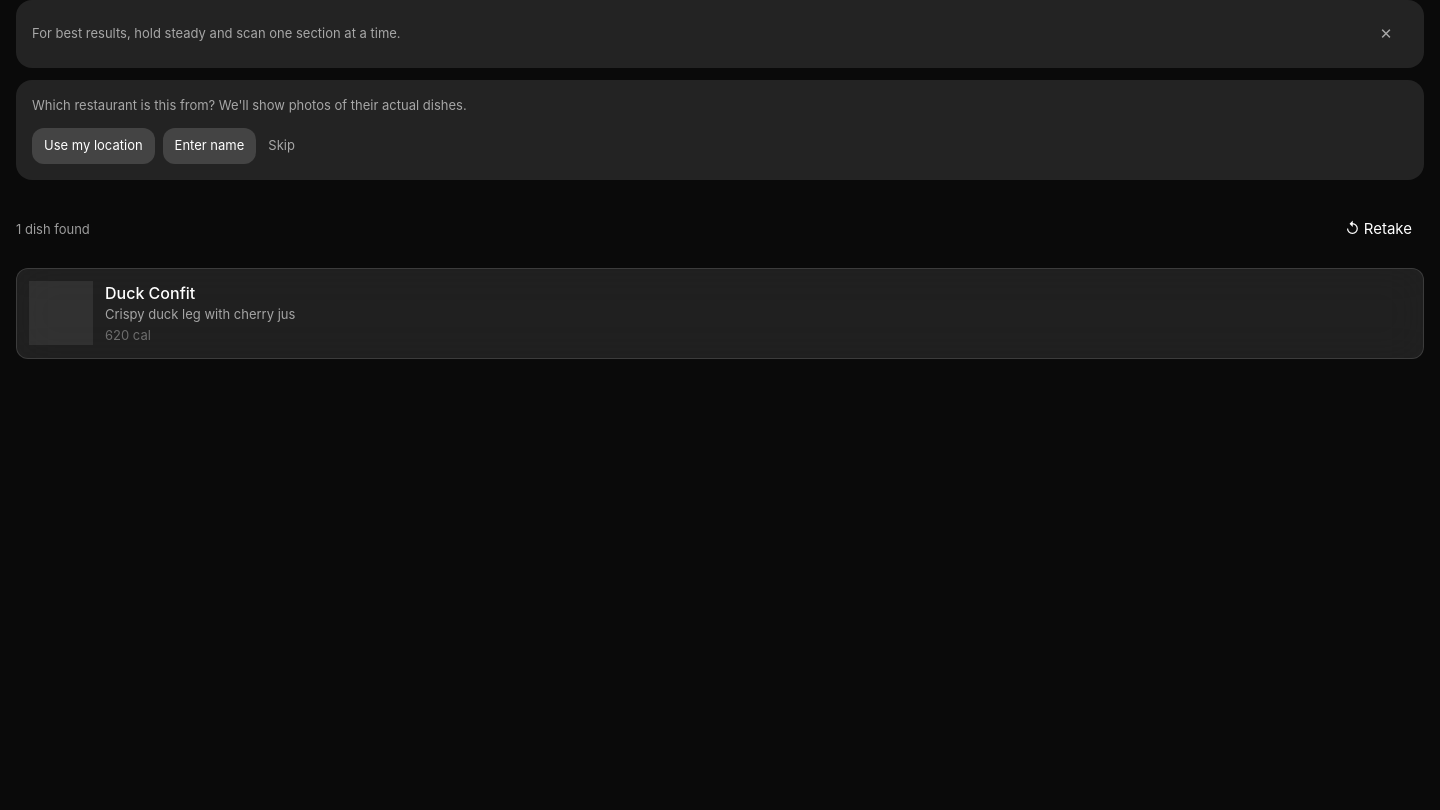
it: ScanResults › tapping a dish card opens the DishDetailSheet
What coordinates should you click on to do the following:
click the element with test id "glass-card"
I would click on:
 (720, 313)
Its box is [16, 268, 1424, 358].
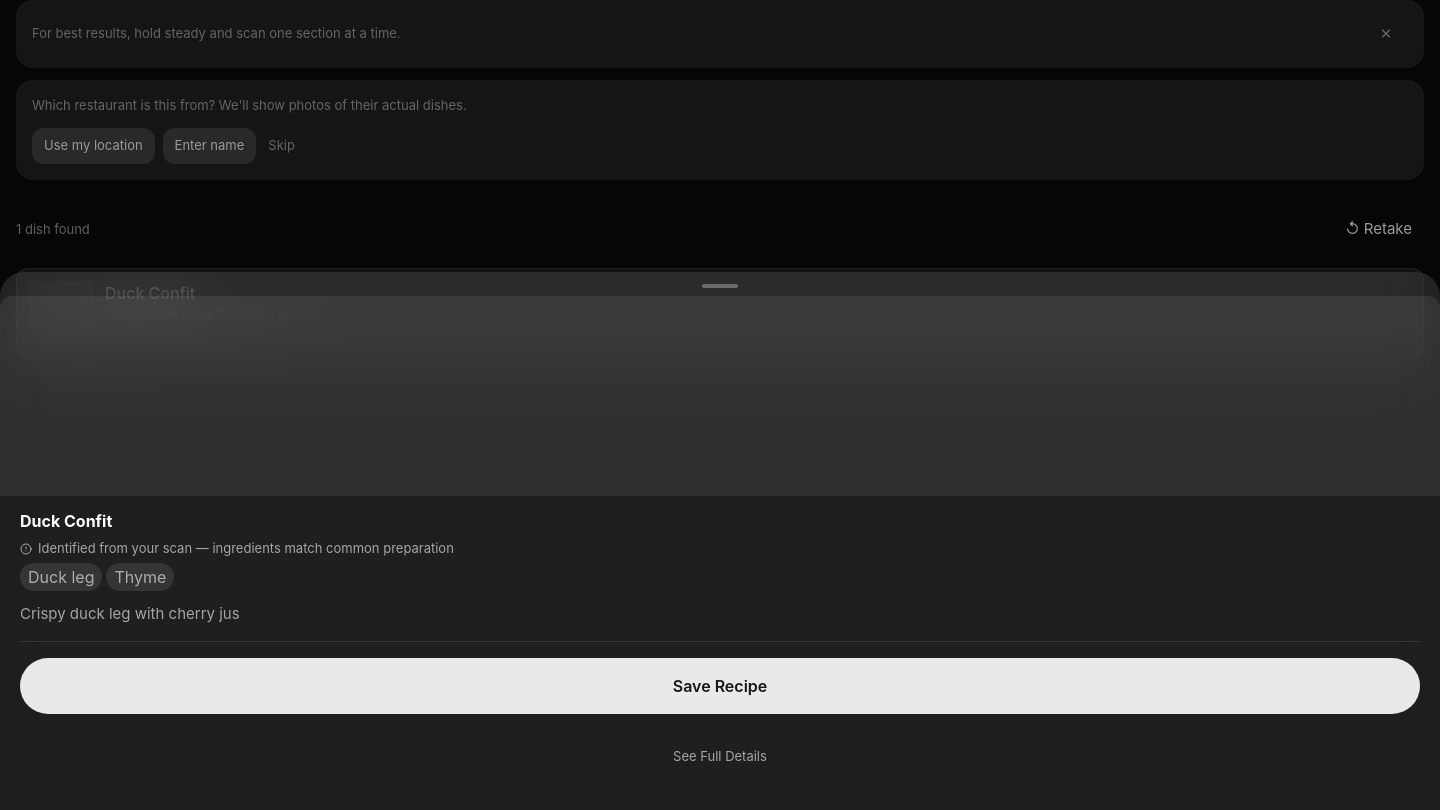
Now the dialog is shown
